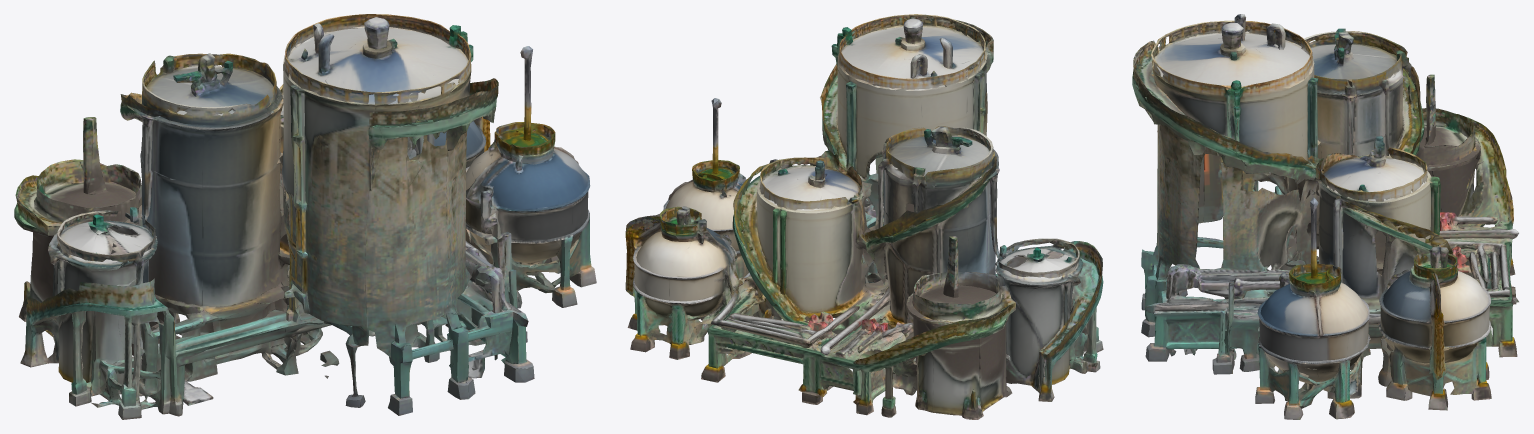
Rendered from hp_refinery_tanks.glb.
3 renders of one model, left to right at view 1: azimuth 30°, elevation 25°; view 2: azimuth 150°, elevation 25°; view 3: azimuth 270°, elevation 25°, orthographic. The views are drawn at different scales.
Parts seen in each view (by area): view 1: geometry_0; view 2: geometry_0; view 3: geometry_0.
Part boxes in pixels (<box>): geometry_0: <box>14,14,596,419</box>; geometry_0: <box>625,14,1103,419</box>; geometry_0: <box>1132,14,1518,419</box>.
Bounding box in the file's own units: 74.78 × 48.14 × 56.53.
1 material, 1 textured.
